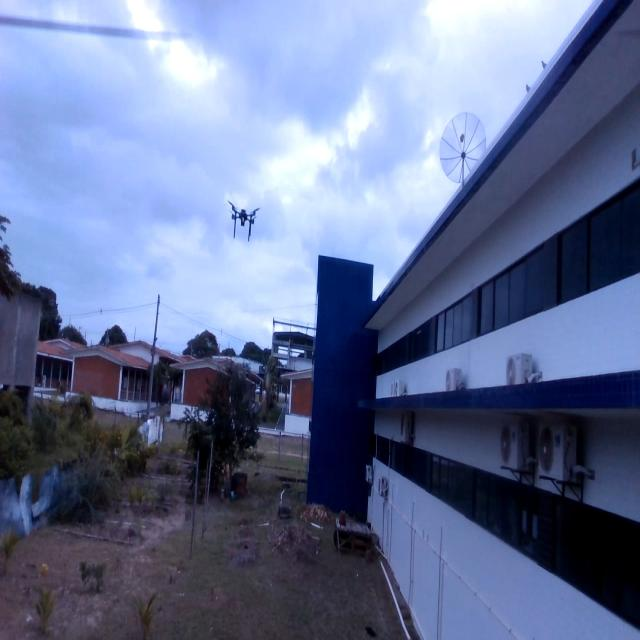-uav-: (224, 193, 262, 253)
